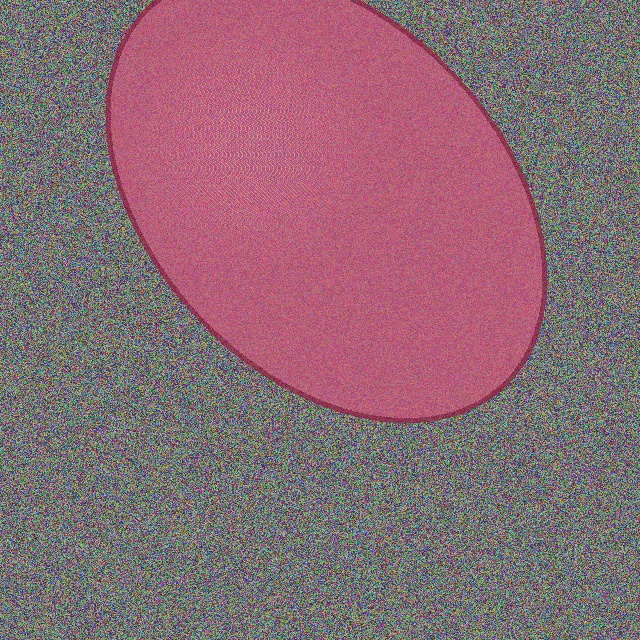lens: (109, 0, 543, 420)
